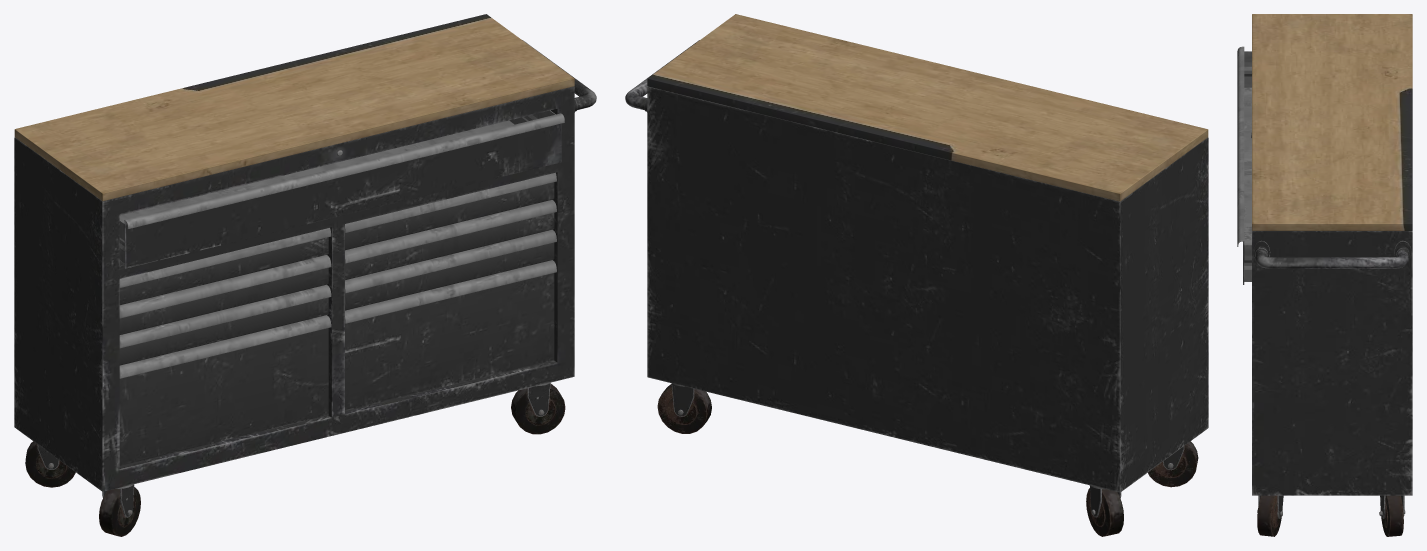
The model's file is mesa-trabajo.glb.
The picture shows the model from 3 angles, left to right: view 1: azimuth 30°, elevation 25°; view 2: azimuth 150°, elevation 25°; view 3: azimuth 270°, elevation 25°; orthographic projection. The views are drawn at different scales.
Parts seen in each view (by area): view 1: defaultMaterial; view 2: defaultMaterial; view 3: defaultMaterial.
Part boxes in pixels (box(x1,y1,x2,y2)): defaultMaterial: box(14, 14, 596, 536); defaultMaterial: box(625, 14, 1208, 536); defaultMaterial: box(1237, 14, 1412, 536).
Size of the model in its own units: 148 by 99.62 by 49.08.
1 material, 1 textured.
